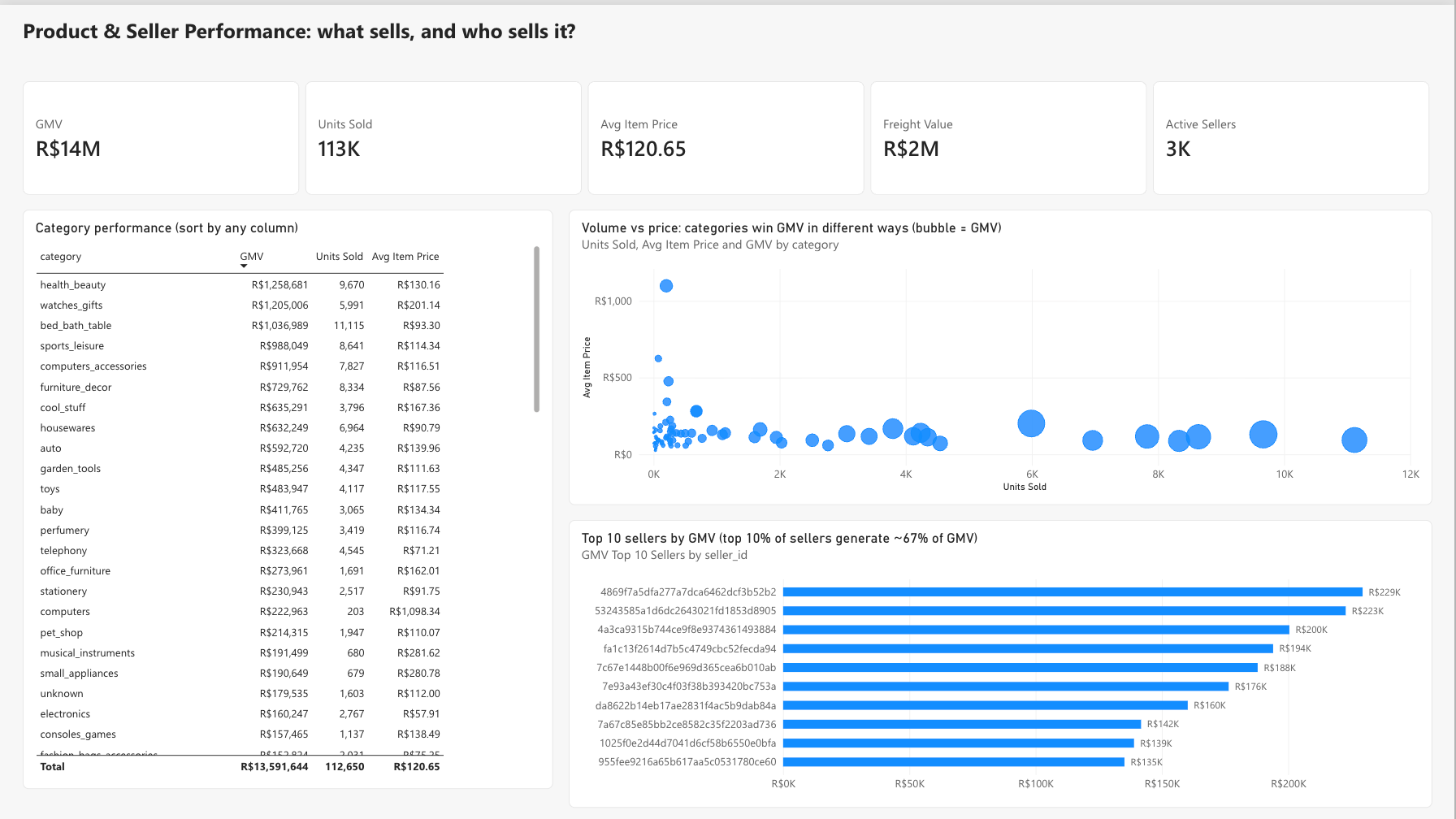

This screenshot's page, from the dashboard's own definition file:
{"tool":"powerbi","page":{"name":"Product & Seller","canvas":[1920,1080],"ordinal":3},"visuals":[{"type":"textbox","box":[30,15,1820,75],"z":0},{"type":"cardVisual","fields":{"Data":["orders.GMV","orders.Units Sold","orders.Avg Item Price","orders.Freight Value","orders.Active Sellers"]},"box":[30,100,1860,150],"z":1},{"type":"tableEx","title":"Category performance (sort by any column)","fields":{"Values":["order_items.category","orders.GMV","orders.Units Sold","orders.Avg Item Price"]},"box":[30,270,700,765],"z":2},{"type":"scatterChart","title":"Volume vs price: categories win GMV in different ways (bubble = GMV)","fields":{"Category":["order_items.category"],"Size":["orders.GMV"],"X":["orders.Units Sold"],"Y":["orders.Avg Item Price"]},"box":[750,270,1140,390],"z":3},{"type":"clusteredBarChart","title":"Top 10 sellers by GMV (top 10% of sellers generate ~67% of GMV)","fields":{"Category":["sellers.seller_id"],"Y":["orders.GMV Top 10 Sellers"]},"box":[750,680,1140,380],"z":4}]}

Visuals, with their boxes in screenshot pixels (x1, y1, x2, y2), scaled from the page's 1920x1080 canvas onto the 1456x819 screenshot:
textbox: (23, 11, 1403, 68)
cardVisual - orders.GMV x orders.Units Sold: (23, 76, 1433, 190)
"Category performance (sort by any column)" tableEx: (23, 205, 554, 785)
"Volume vs price: categories win GMV in different ways (bubble = GMV)" scatterChart: (569, 205, 1433, 500)
"Top 10 sellers by GMV (top 10% of sellers generate ~67% of GMV)" clusteredBarChart: (569, 516, 1433, 804)
